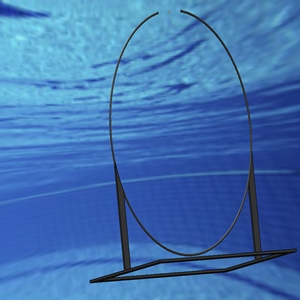circle: (103, 8, 262, 278)
